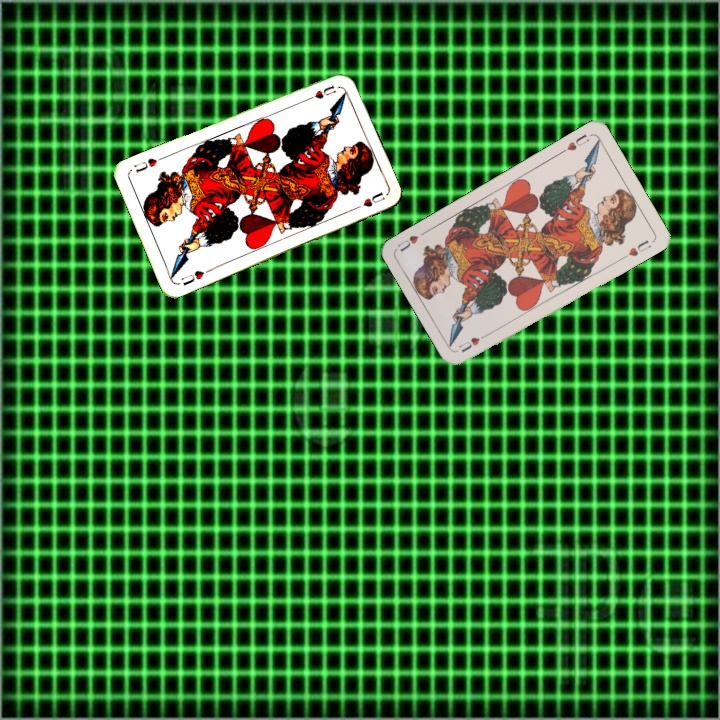HU: (455, 329, 492, 355), (557, 130, 592, 156), (177, 265, 213, 288), (310, 81, 339, 101)
